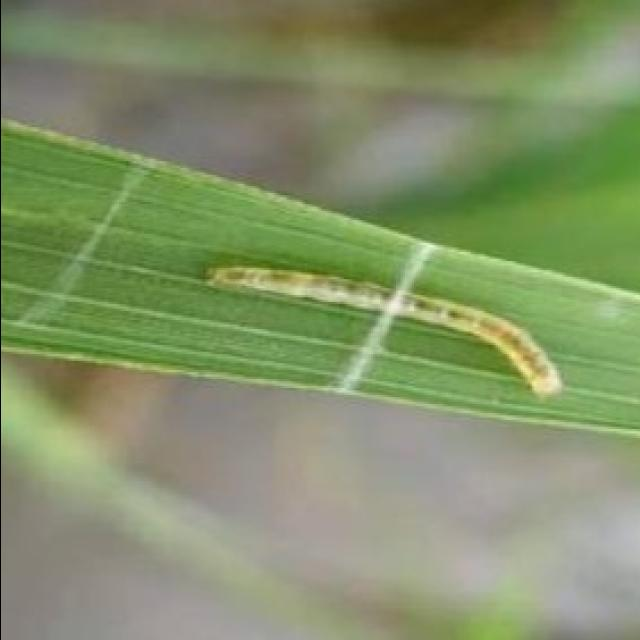rice leaf roller: (207, 268, 561, 397)
